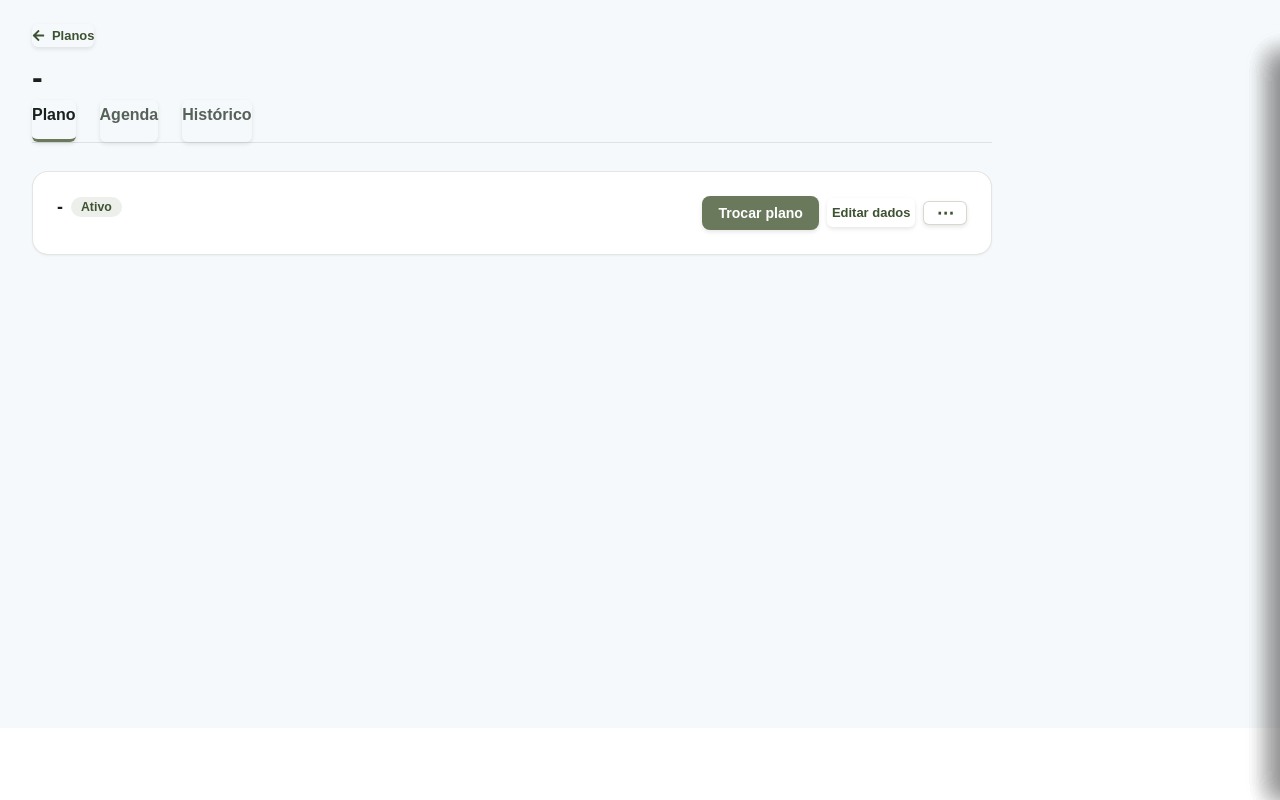
Test: Planos no contêiner do App Shell › só exibe o estado vazio quando a API confirma ausência de eventos
Click the tab "Histórico" at (217, 121), box left=182, top=100, right=252, bottom=142
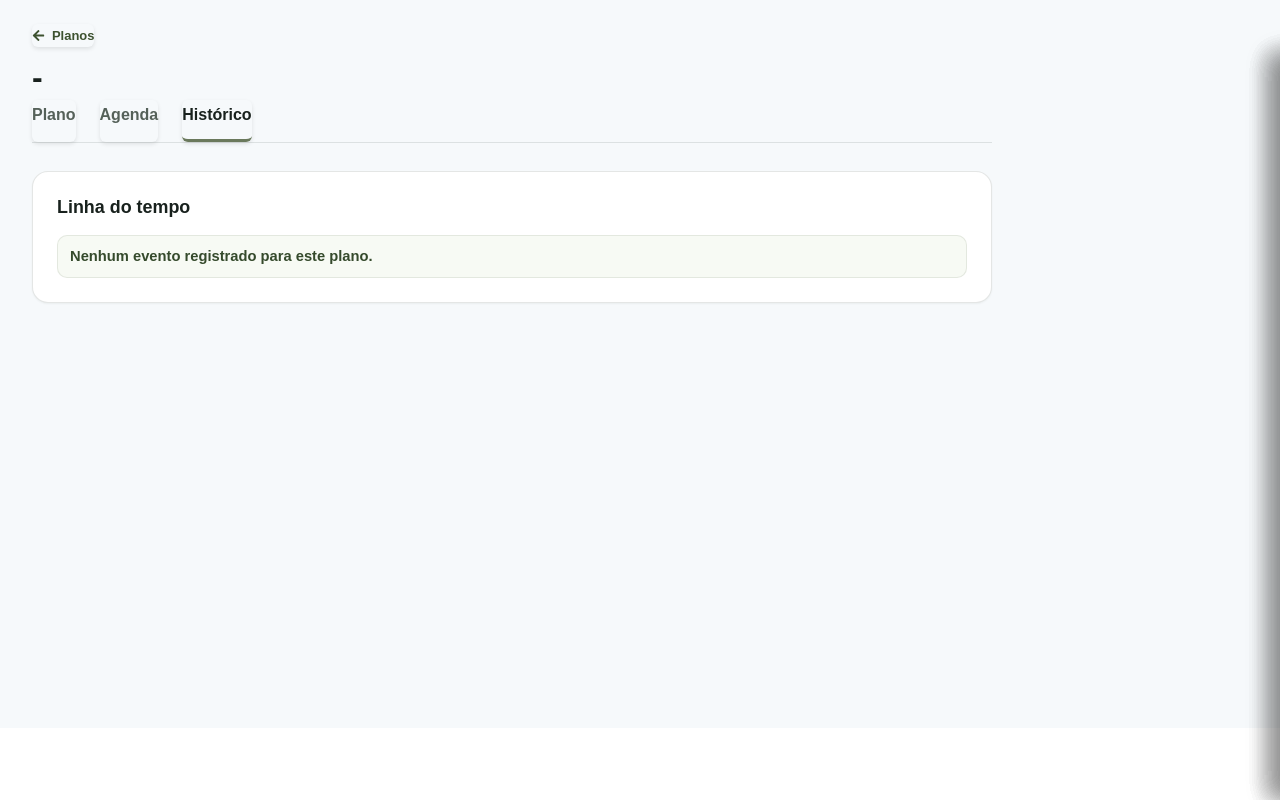
Expected: the text "Nenhum evento registrado para este plano." is shown, left=57, top=235, right=967, bottom=278
